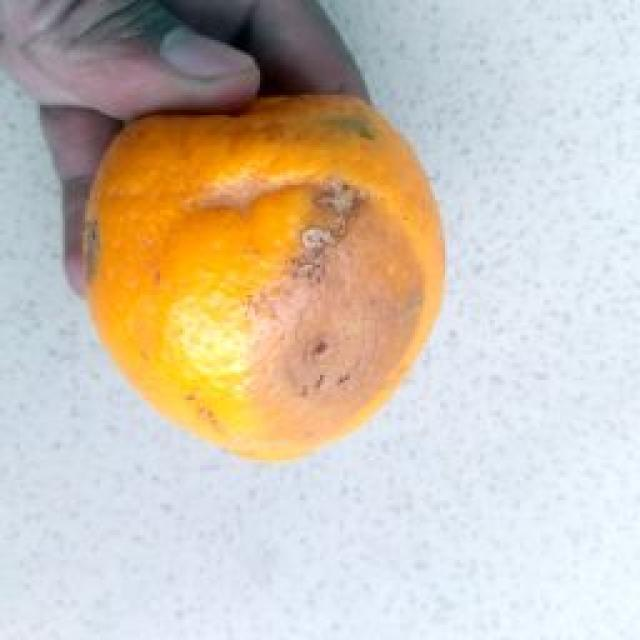Bad_Orange: (86, 96, 444, 459)
